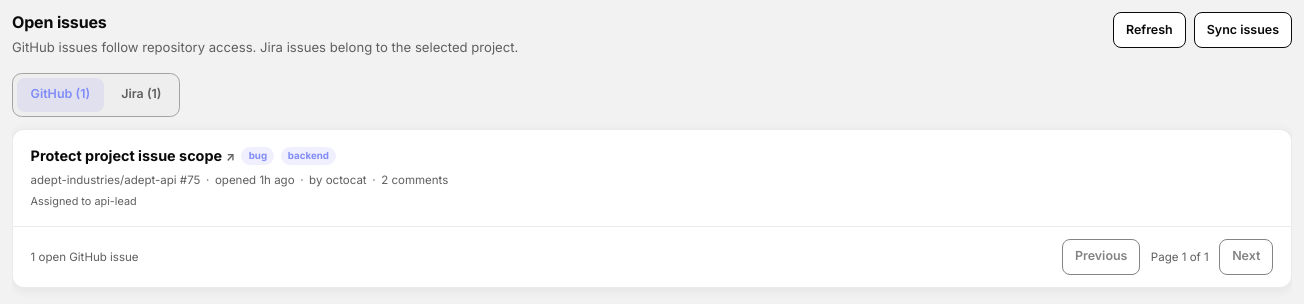
Test case: ProjectIssuesSection › separates GitHub and Jira issues and identifies their repository or Jira project
Expected: the text "adept-industries/adept-api #75" is shown, [31,172,200,188]
Expected: the text "Assigned to api-lead" is shown, [31,194,137,208]
Click the tab "Jira (1)": [141, 95] box [108,78,175,112]
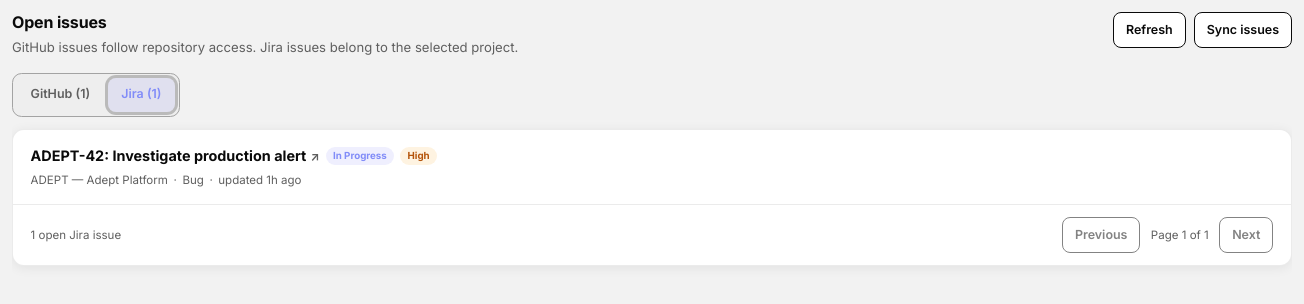
Now the text "ADEPT — Adept Platform" is shown, box [31,172,168,188]
Now the text "In Progress" is shown, box [326,147,394,165]
Now the text "High" is shown, box [400,147,437,165]
